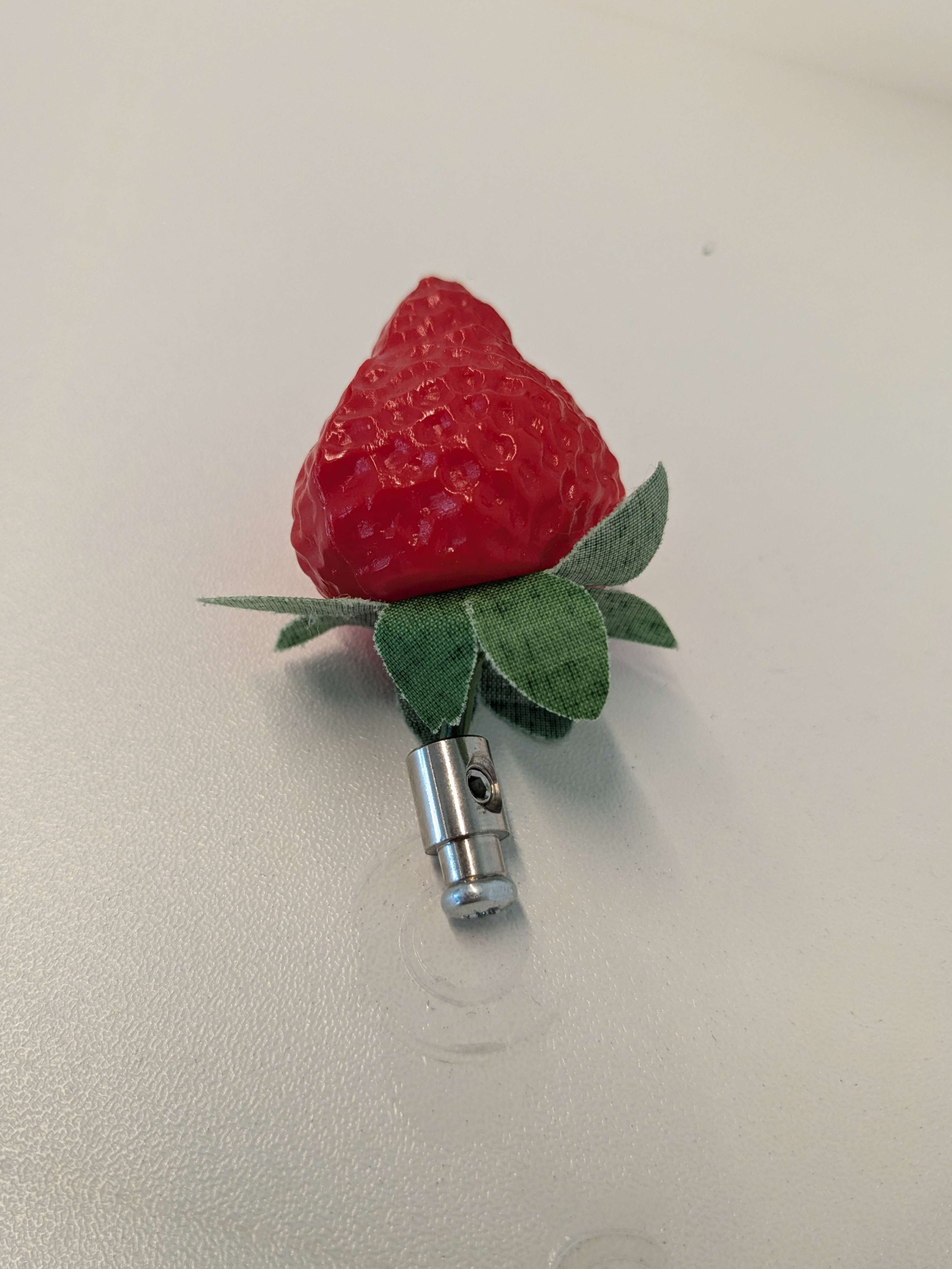Strawberry: (244, 212, 705, 686)
